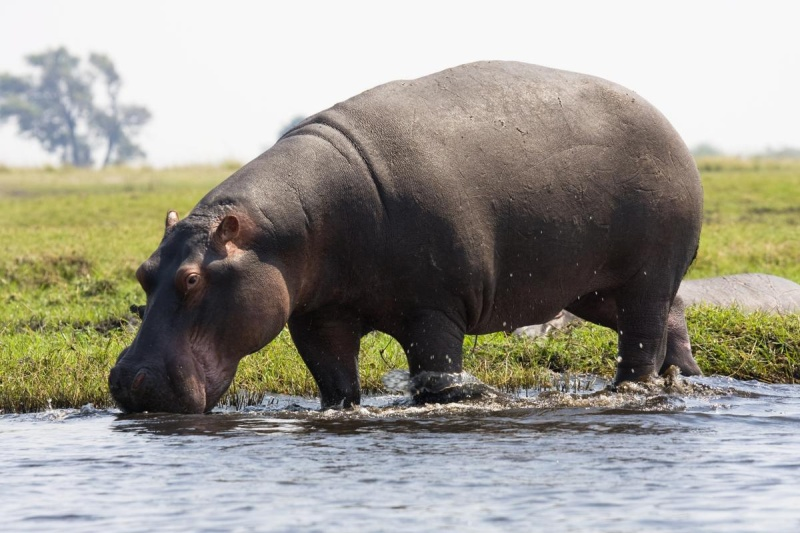hipopotamo: (108, 60, 710, 414)
